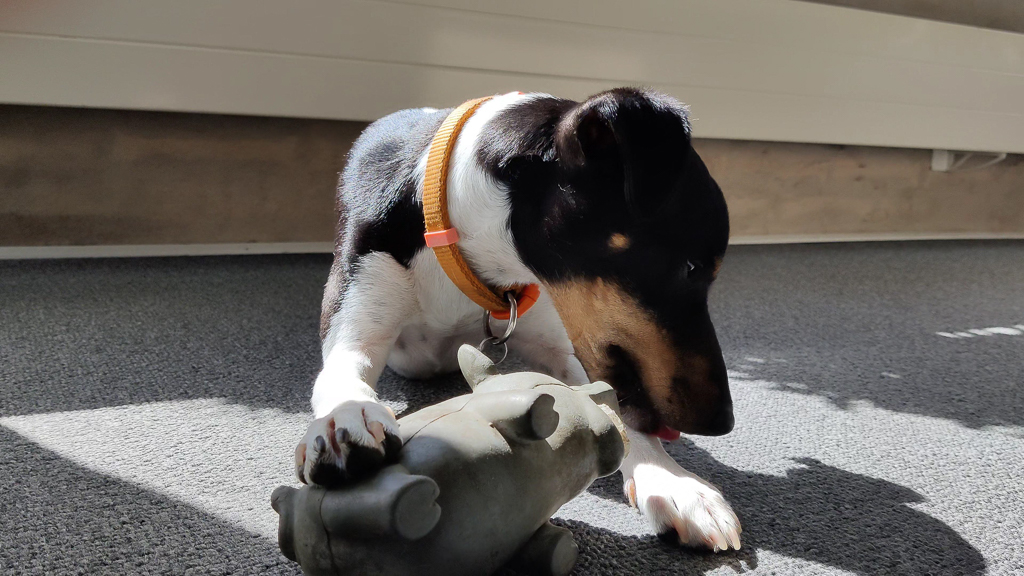Dog: (280, 61, 781, 563)
